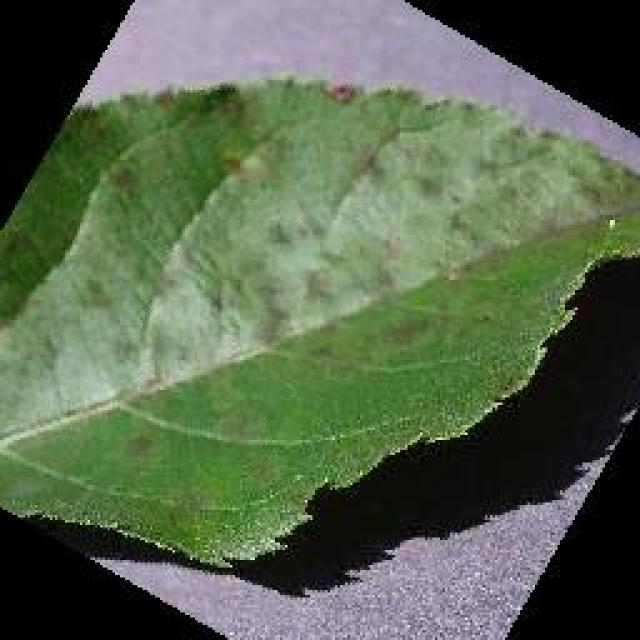apple scab disease: (0, 70, 638, 590)
